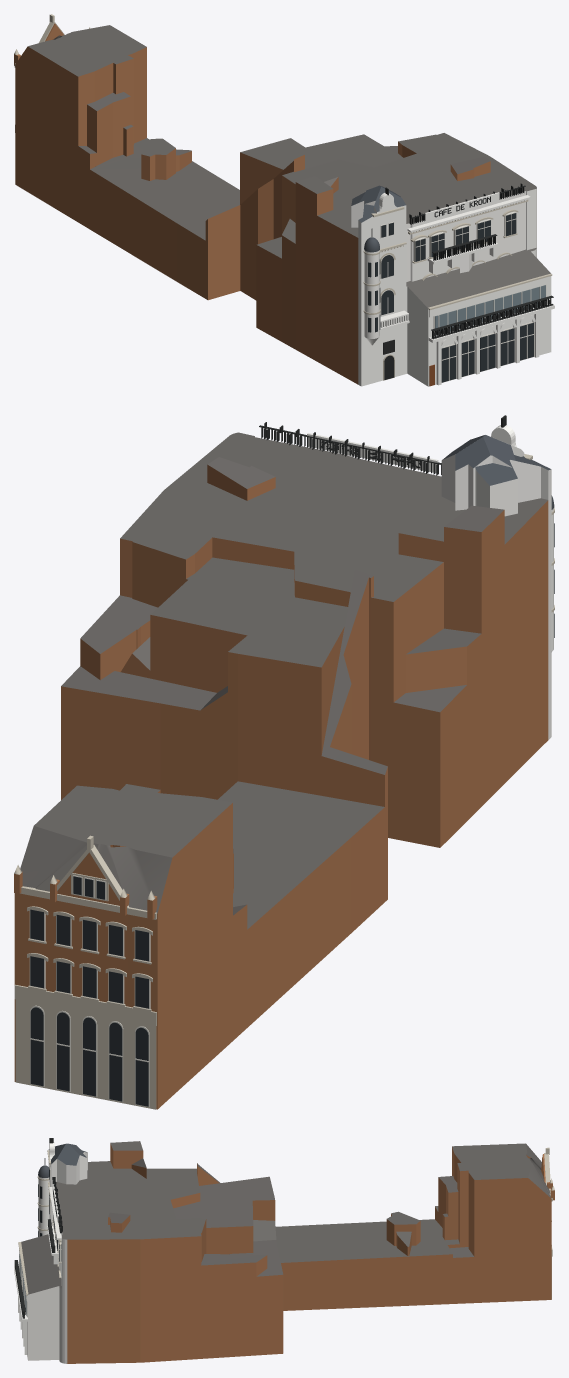
File: de-kroon-rembrandtplein.glb
The picture shows the model from 3 angles, top to bottom: view 1: azimuth 30°, elevation 25°; view 2: azimuth 150°, elevation 25°; view 3: azimuth 270°, elevation 25°; orthographic projection. The views are drawn at different scales.
Visible parts, largest first — view 1: de-kroon-rembrandtplein; view 2: de-kroon-rembrandtplein; view 3: de-kroon-rembrandtplein.
Part boxes in pixels (x1,y1,x2,y2): de-kroon-rembrandtplein: (14,14,554,386); de-kroon-rembrandtplein: (14,415,554,1109); de-kroon-rembrandtplein: (14,1138,554,1363).
Bounding box in the file's own units: 29.76 × 22.7 × 69.34.
